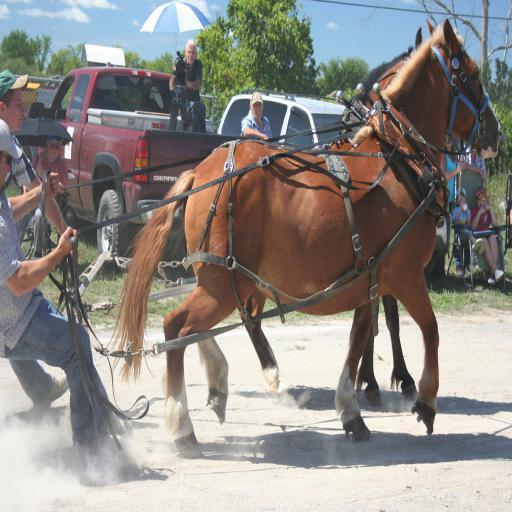horse: (102, 16, 506, 458), (234, 22, 422, 408)
